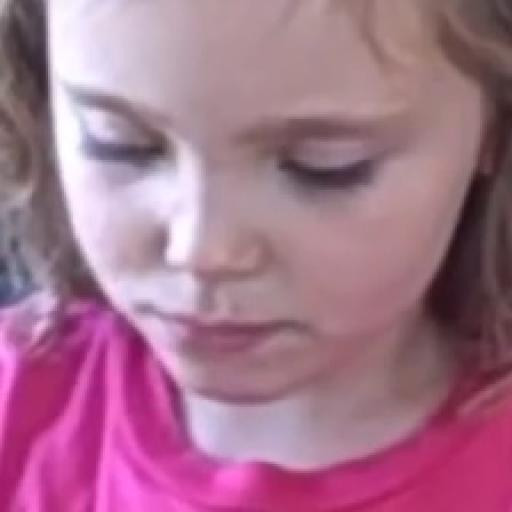Autism: (34, 0, 512, 421)
